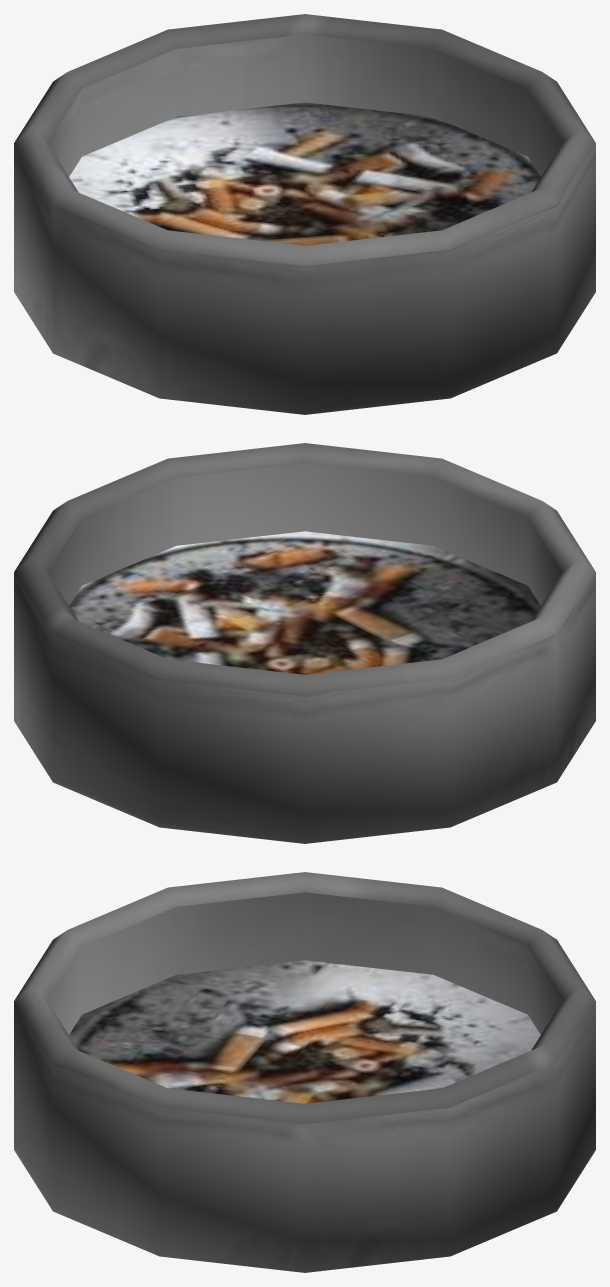
File: ashtray.FBX
3 renders of one model, top to bottom at view 1: azimuth 30°, elevation 25°; view 2: azimuth 150°, elevation 25°; view 3: azimuth 270°, elevation 25°, orthographic.
Parts seen in each view (by area): view 1: ashtray; view 2: ashtray; view 3: ashtray.
Part boxes in pixels (<box>): ashtray: <box>14,14,595,414</box>; ashtray: <box>14,443,595,843</box>; ashtray: <box>14,872,595,1272</box>.
Bounding box in the file's own units: 10.95 × 3.37 × 10.95.
